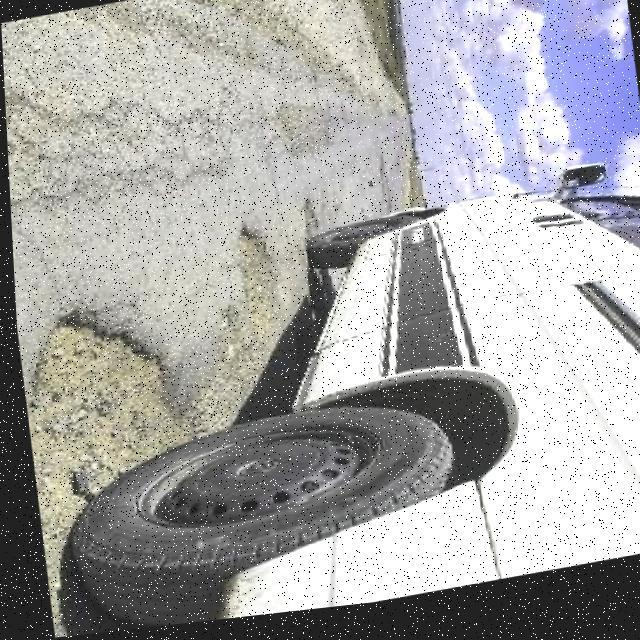pothole: (12, 293, 186, 539), (222, 225, 280, 306)
